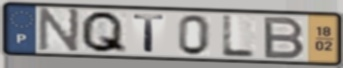0: (175, 12, 213, 57)
B: (261, 15, 308, 61)
L: (220, 14, 258, 59)
N: (36, 6, 82, 55)
Q: (78, 10, 129, 55)
T: (131, 13, 168, 54)
